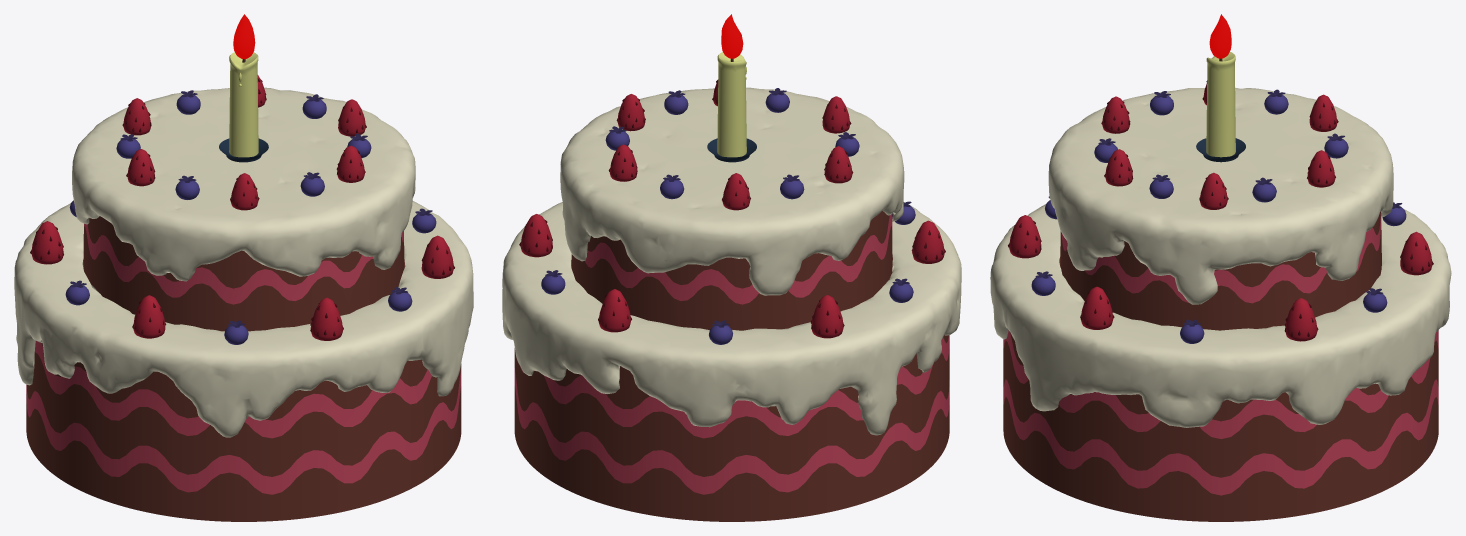
Rendered from birthday.glb.
3 views of the same model, side by side, from view 1: azimuth 30°, elevation 25°; view 2: azimuth 150°, elevation 25°; view 3: azimuth 270°, elevation 25° (orthographic).
Parts seen in each view (by area): view 1: Birthday Cake_0, candle; view 2: Birthday Cake_0, candle; view 3: Birthday Cake_0, candle.
Part boxes in pixels (x1,y1,x2,y2): Birthday Cake_0: [14, 52, 473, 521]; candle: [233, 14, 255, 59]; Birthday Cake_0: [502, 52, 961, 521]; candle: [721, 14, 743, 58]; Birthday Cake_0: [990, 51, 1451, 521]; candle: [1209, 14, 1231, 58].
Bounding box in the file's own units: 0.3079 × 0.3065 × 0.3077.
